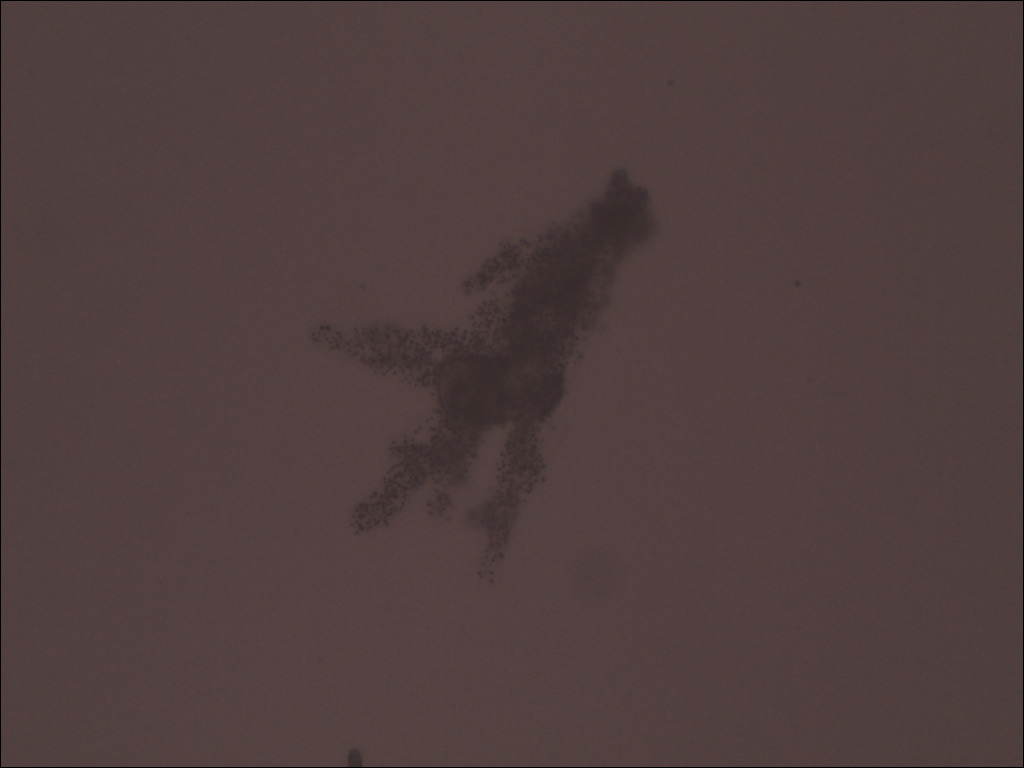amoeba: (282, 157, 679, 597)
